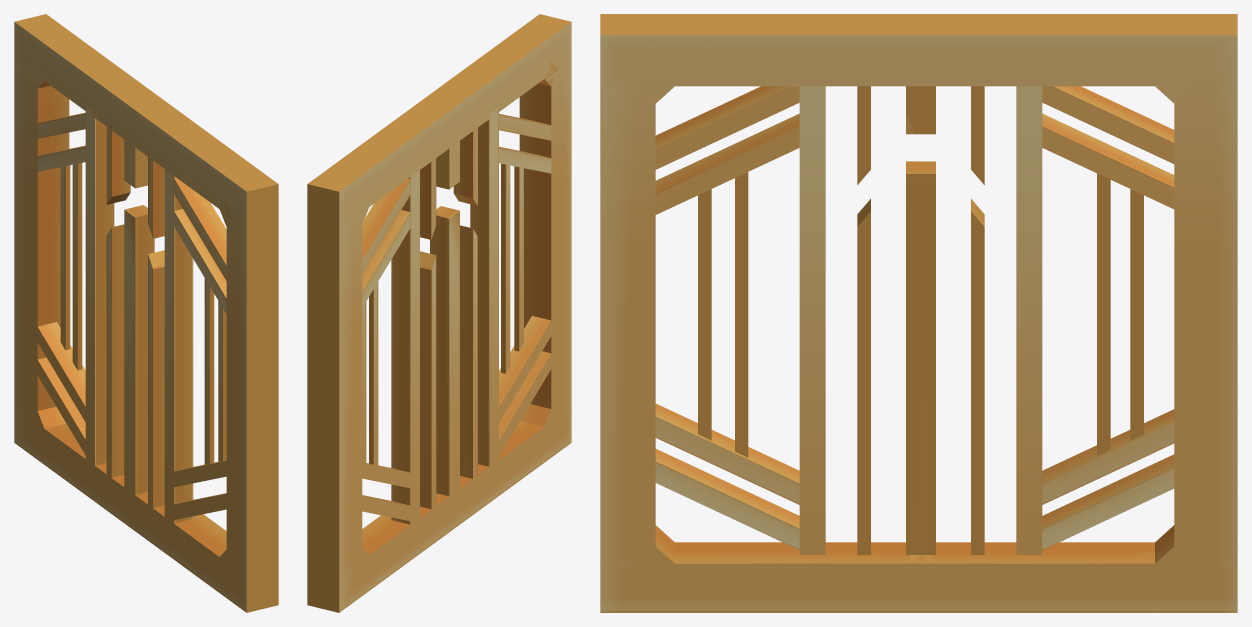
The model's file is sidepiece.fbx.
3 renders of one model, left to right at view 1: azimuth 30°, elevation 25°; view 2: azimuth 150°, elevation 25°; view 3: azimuth 270°, elevation 25°, orthographic. The views are drawn at different scales.
Parts seen in each view (by area): view 1: polySurface52; view 2: polySurface52; view 3: polySurface52.
Part boxes in pixels (<box>): polySurface52: <box>14,14,278,612</box>; polySurface52: <box>307,14,571,612</box>; polySurface52: <box>600,14,1237,612</box>.
Size of the model in its own units: 0.4741 by 6 by 6.
Materials: 1 (1 with a texture image).
